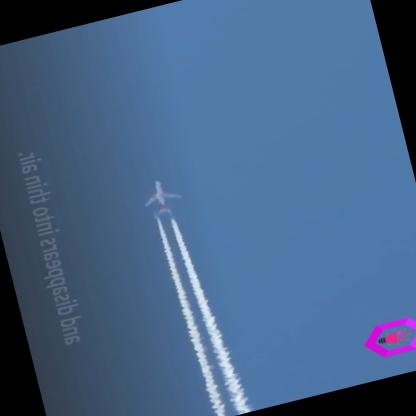plane: (135, 170, 194, 225)
